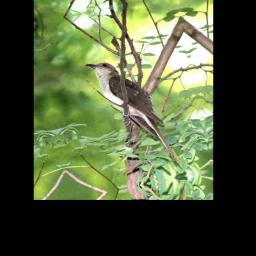Cuckoo: (85, 49, 183, 184)
